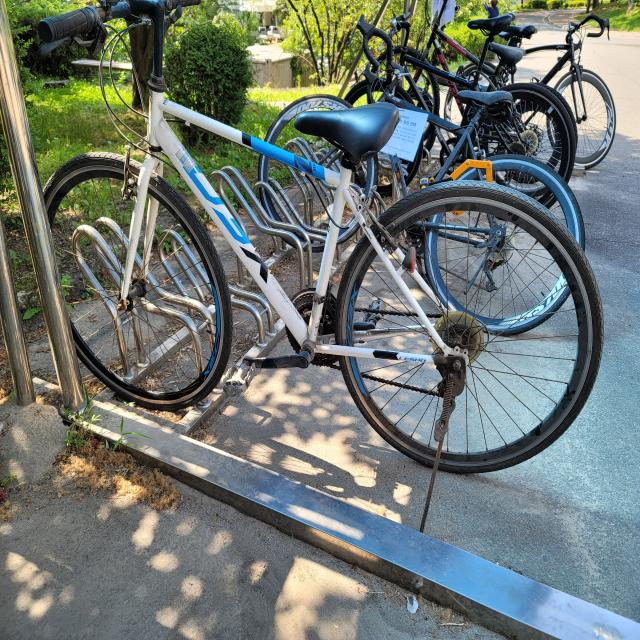bicycle: (38, 1, 604, 473)
